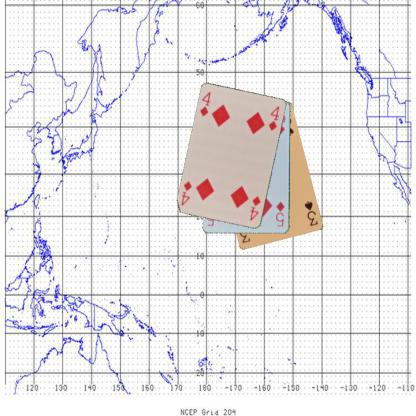3s: (302, 198, 320, 227)
4d: (247, 193, 262, 222), (198, 89, 212, 118)
5d: (273, 199, 286, 228)
